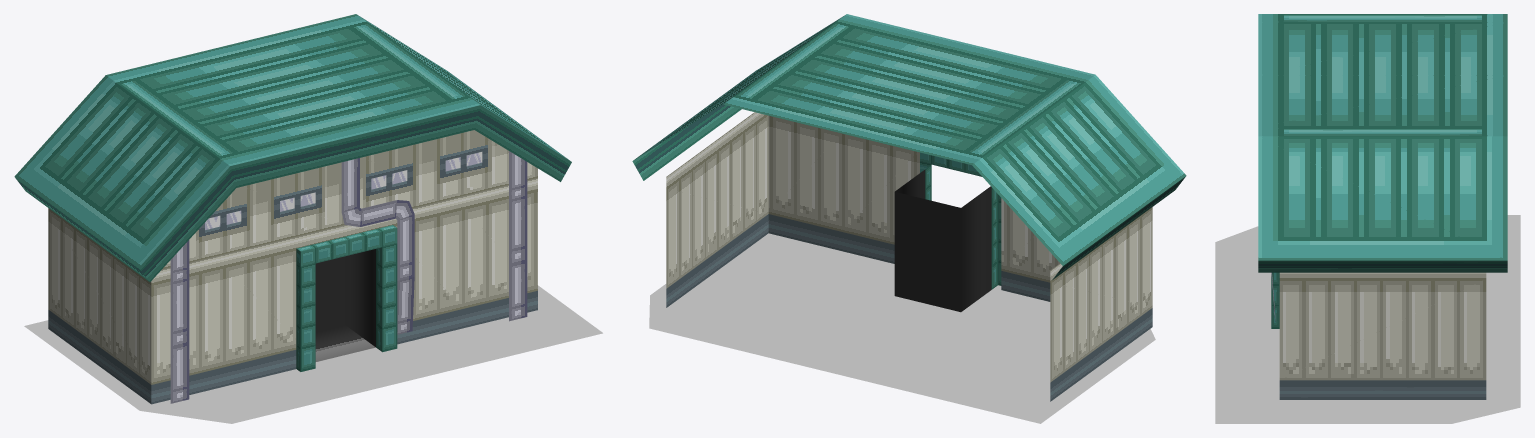
The model's file is d13_house_01.dae.
3 views of the same model, side by side, from view 1: azimuth 30°, elevation 25°; view 2: azimuth 150°, elevation 25°; view 3: azimuth 270°, elevation 25° (orthographic).
Parts seen in each view (by area): view 1: d13_house_01; view 2: d13_house_01; view 3: d13_house_01.
Part boxes in pixels (x1,y1,x2,y2): d13_house_01: [14, 14, 602, 423]; d13_house_01: [632, 14, 1186, 423]; d13_house_01: [1215, 14, 1520, 423].
Bounding box in the file's own units: 119 × 61 × 71.
